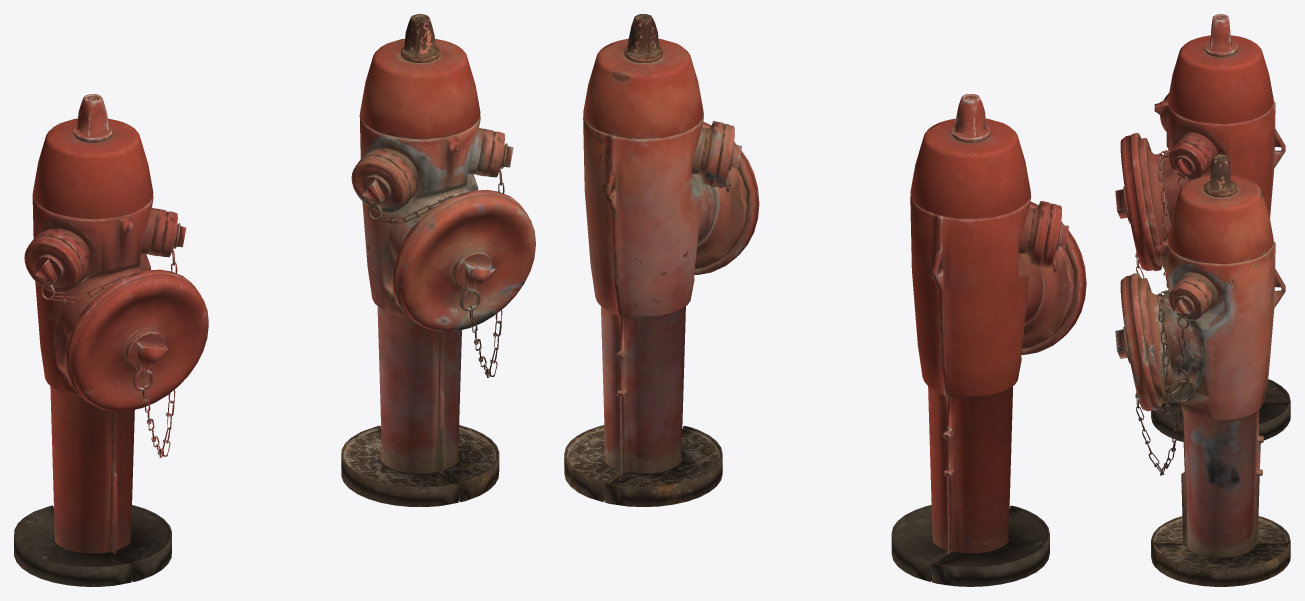
File: hydrant.glb
The picture shows the model from 3 angles, left to right: view 1: azimuth 30°, elevation 25°; view 2: azimuth 150°, elevation 25°; view 3: azimuth 270°, elevation 25°; orthographic projection. The views are drawn at different scales.
Visible parts, largest first — view 1: fire_hydrant, fire_hydrant_aged; view 2: fire_hydrant, fire_hydrant_aged; view 3: fire_hydrant_aged, fire_hydrant.
Boxes of the visible parts, x1=… form: fire_hydrant: x1=14, y1=94, x2=208, y2=586; fire_hydrant_aged: x1=341, y1=14, x2=535, y2=506; fire_hydrant: x1=891, y1=94, x2=1086, y2=586; fire_hydrant_aged: x1=564, y1=14, x2=759, y2=506; fire_hydrant_aged: x1=1115, y1=154, x2=1290, y2=586; fire_hydrant: x1=1115, y1=14, x2=1290, y2=441.
Size of the model in its own units: 0.8745 by 0.7994 by 0.3173.
Materials: 2 (2 with a texture image).
